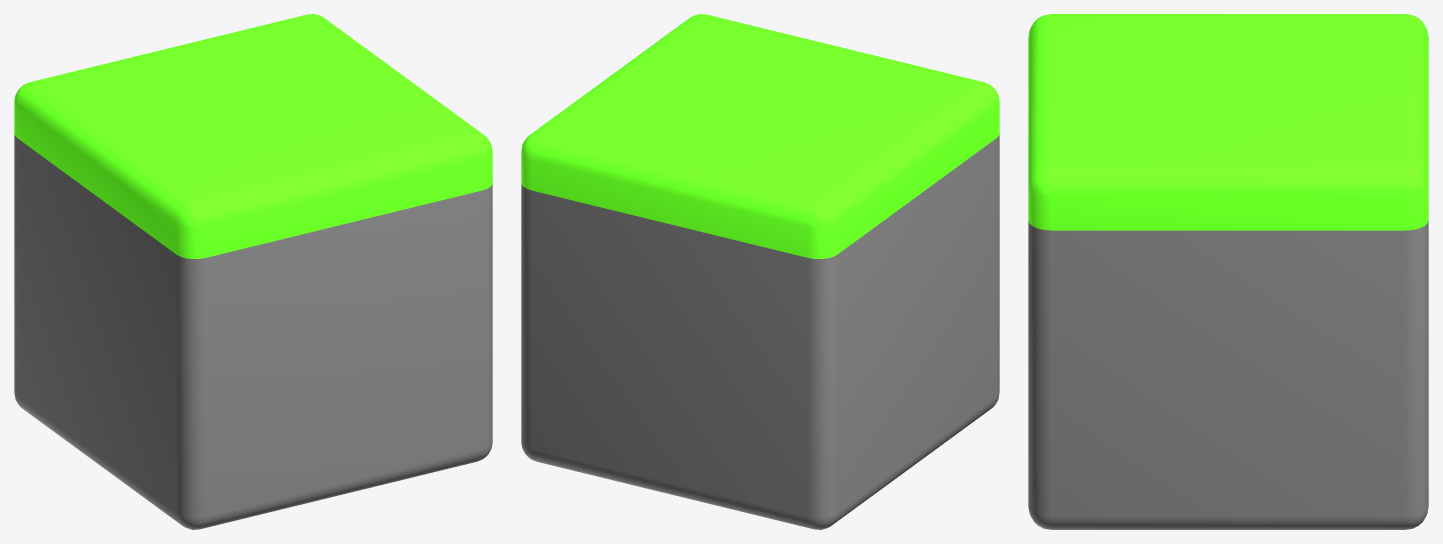
The picture shows the model from 3 angles, left to right: view 1: azimuth 30°, elevation 25°; view 2: azimuth 150°, elevation 25°; view 3: azimuth 270°, elevation 25°; orthographic projection. The views are drawn at different scales.
Parts seen in each view (by area): view 1: Cube_1; view 2: Cube_1; view 3: Cube_1.
Part boxes in pixels (left/top/right/bottom): Cube_1: left=14, top=14, right=492, bottom=529; Cube_1: left=521, top=14, right=999, bottom=529; Cube_1: left=1028, top=14, right=1428, bottom=529.
Bounding box in the file's own units: 100 × 100 × 100.
